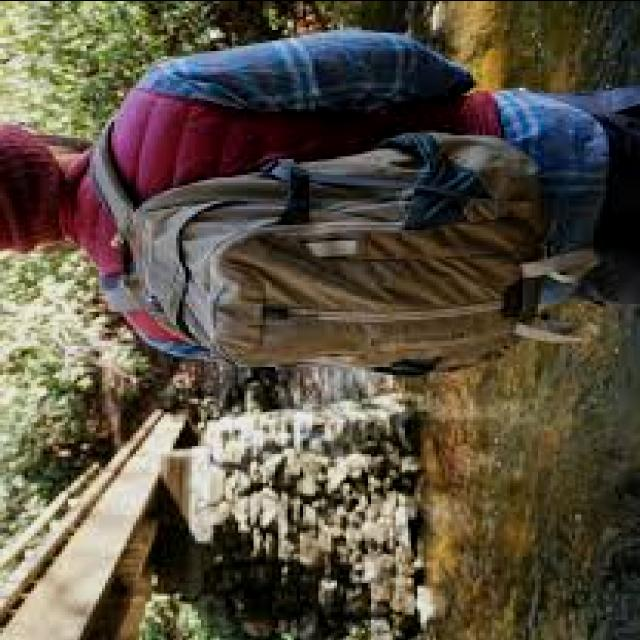backpack: (91, 99, 551, 378)
